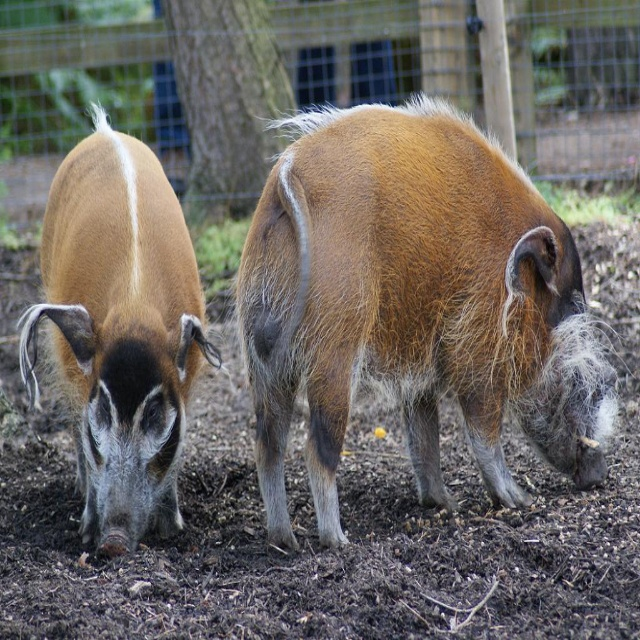Pig: (221, 98, 635, 567), (15, 98, 224, 568)
